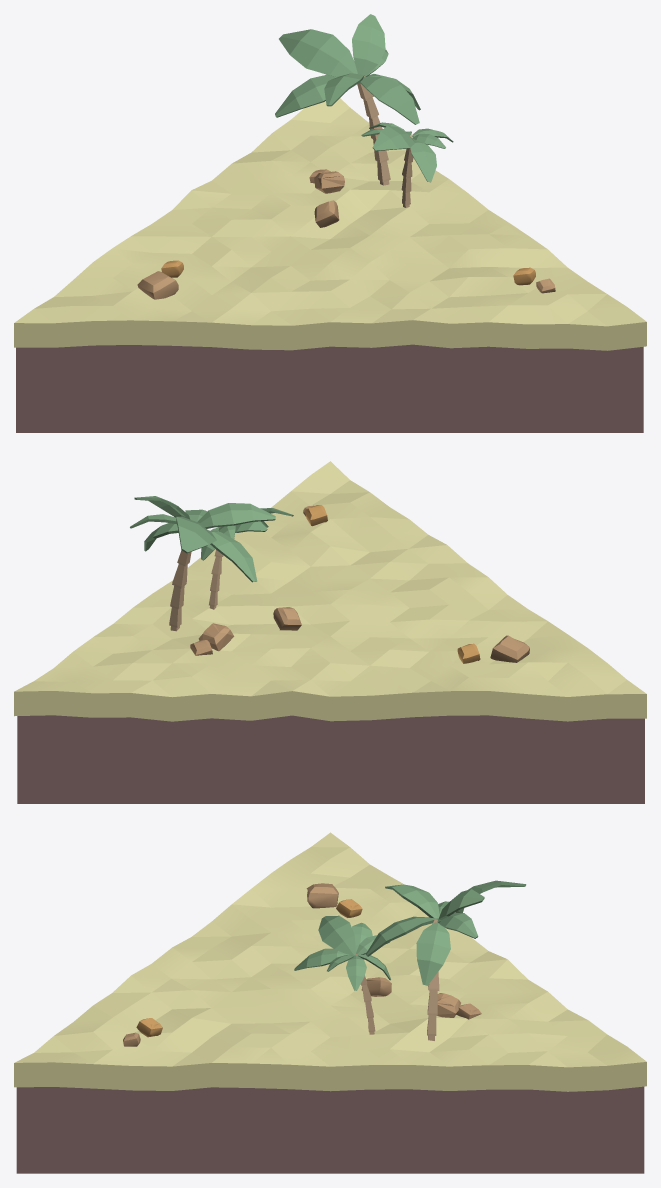
Rendered from TILE_03_02_Beach.fbx.
3 renders of one model, top to bottom at view 1: azimuth 30°, elevation 25°; view 2: azimuth 150°, elevation 25°; view 3: azimuth 270°, elevation 25°, orthographic.
Parts seen in each view (by area): view 1: TILESURFACE14, TILE18, pCube47, pCube48, pCube45, pCube51, pCube43, pCube36, pCube47 1, pCube46, pCube51 1; view 2: TILESURFACE14, TILE18, pCube46, pCube51, pCube43, pCube47, pCube36, pCube52, pCube40, pCube43 1; view 3: TILESURFACE14, TILE18, pCube49, pCube47 1, pCube45, pCube46, pCube36, pCube43, pCube48, pCube50, pCube51 1, pCube45 1 (+1 smaller).
Part boxes in pixels (box(x1,y1,x2,y2)): TILESURFACE14: box(14, 98, 646, 350); TILE18: box(16, 344, 643, 432); pCube47: box(279, 29, 357, 76); pCube48: box(352, 14, 385, 76); pCube45: box(360, 76, 419, 124); pCube51: box(275, 74, 337, 117); pCube43: box(357, 76, 390, 185); pCube36: box(137, 271, 178, 299); pCube47 1: box(372, 125, 414, 151); pCube46: box(324, 73, 364, 106); pCube51 1: box(410, 139, 436, 182); TILESURFACE14: box(14, 461, 646, 721); TILE18: box(17, 715, 644, 803); pCube46: box(197, 503, 275, 528); pCube51: box(209, 530, 257, 582); pCube43: box(169, 550, 191, 631); pCube47: box(176, 516, 216, 553); pCube36: box(490, 635, 529, 662); pCube52: box(198, 623, 234, 651); pCube40: box(273, 607, 301, 630); pCube43 1: box(209, 550, 223, 609); TILESURFACE14: box(14, 832, 646, 1091); TILE18: box(16, 1086, 644, 1173); pCube49: box(416, 922, 450, 985); pCube47 1: box(318, 915, 355, 955); pCube45: box(366, 916, 438, 956); pCube46: box(385, 884, 439, 918); pCube36: box(306, 883, 338, 908); pCube43: box(427, 919, 439, 1040); pCube48: box(437, 889, 484, 922); pCube50: box(438, 913, 478, 938); pCube51 1: box(294, 948, 348, 970); pCube45 1: box(346, 955, 366, 990).
Bounding box in the file's own units: 151 × 78.37 × 175.
